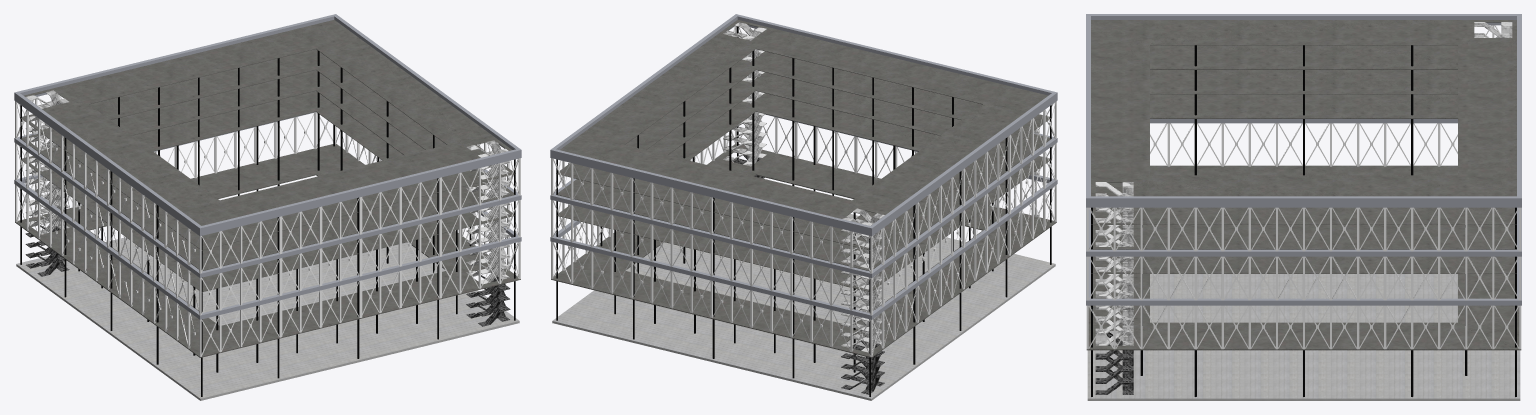
3 views of the same model, side by side, from view 1: azimuth 30°, elevation 25°; view 2: azimuth 150°, elevation 25°; view 3: azimuth 270°, elevation 25° (orthographic). The views are drawn at different scales.
Visible parts, largest first — view 1: floor (×2), lento, vert, x, kolon, merdiven, Merged Objects 1; view 2: floor (×2), lento, vert, x, kolon, merdiven, Merged Objects 1; view 3: floor (×2), lento, x, vert, merdiven, kolon, Merged Objects 1.
Part boxes in pixels (bbox=[...]): floor (×2): bbox=[15, 19, 520, 400]; lento: bbox=[14, 14, 521, 319]; vert: bbox=[15, 99, 520, 356]; x: bbox=[16, 95, 519, 356]; kolon: bbox=[20, 50, 515, 396]; merdiven: bbox=[25, 90, 510, 284]; Merged Objects 1: bbox=[25, 225, 510, 326]; floor (×2): bbox=[551, 19, 1056, 400]; lento: bbox=[550, 14, 1057, 319]; vert: bbox=[551, 26, 1056, 356]; x: bbox=[552, 26, 1055, 356]; kolon: bbox=[556, 26, 1051, 396]; merdiven: bbox=[723, 22, 884, 352]; Merged Objects 1: bbox=[733, 155, 884, 394]; floor (×2): bbox=[1086, 20, 1521, 400]; lento: bbox=[1086, 14, 1521, 305]; x: bbox=[1088, 25, 1519, 348]; vert: bbox=[1086, 25, 1521, 349]; merdiven: bbox=[1095, 22, 1512, 345]; kolon: bbox=[1091, 45, 1516, 396]; Merged Objects 1: bbox=[1095, 332, 1133, 394].
Bounding box in the file's own units: 80.6 × 41.51 × 80.6.
8 materials, 4 textured.
